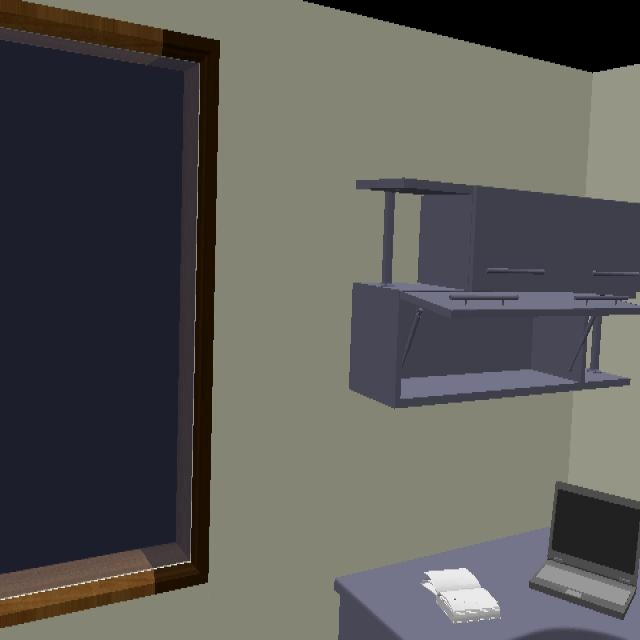book: (420, 568, 502, 625)
cabinet: (350, 179, 640, 409)
laptop: (528, 483, 640, 621)
table: (333, 527, 640, 640)
